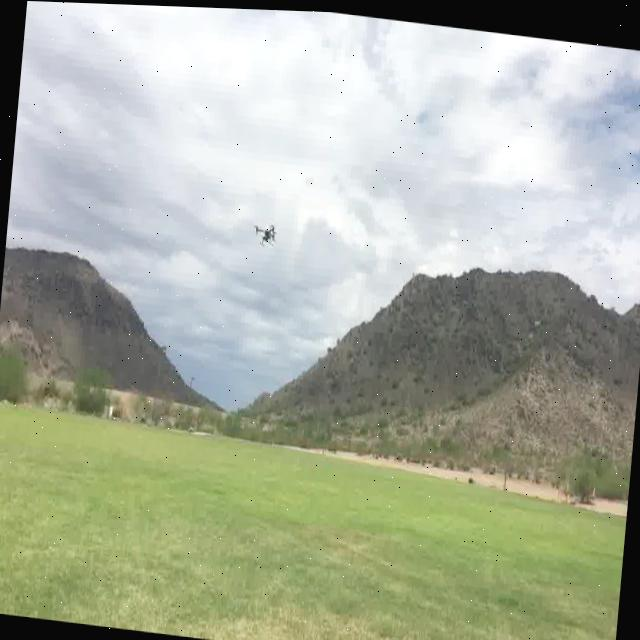drone: (250, 214, 279, 247)
